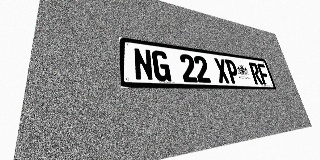2: (179, 53, 198, 82), (193, 55, 211, 83)
F: (257, 63, 271, 85)
G: (151, 50, 171, 82)
N: (133, 47, 154, 81)
P: (224, 59, 241, 84)
R: (248, 62, 263, 84)
X: (213, 58, 230, 83)
